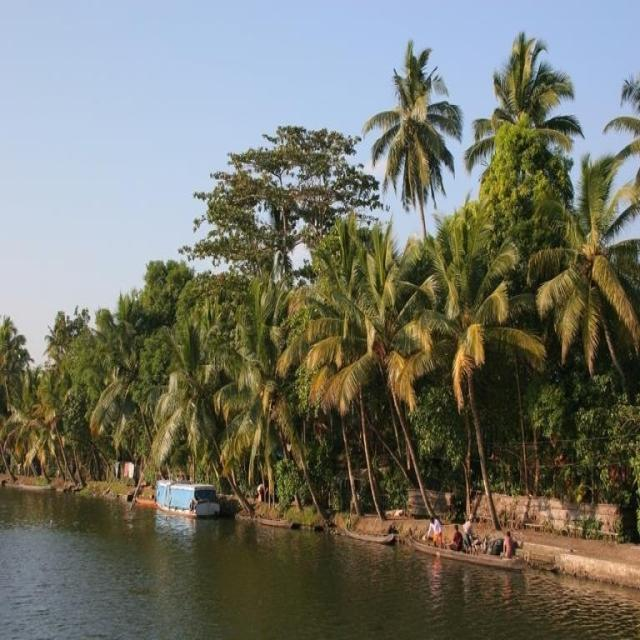boat: (406, 529, 530, 570), (154, 476, 220, 517), (343, 523, 396, 546), (253, 514, 296, 530), (9, 480, 58, 493)
